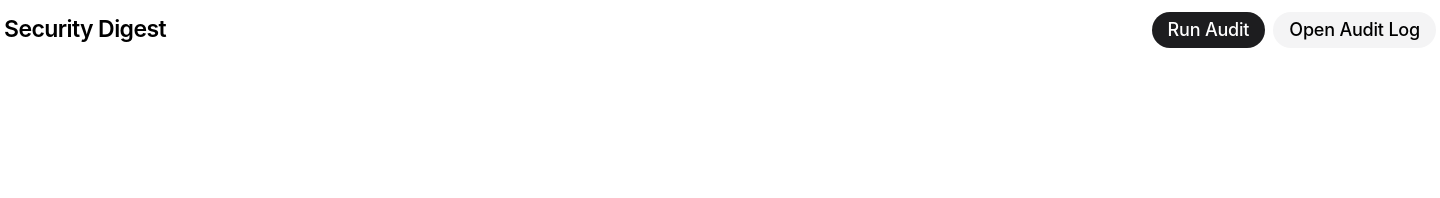
Test: keeps audit buttons together without a placeholder digest container
The width and height of the screenshot is (1440, 198).
Click the button "Run Audit".
click(1208, 30)  # box [1152,12,1265,48]
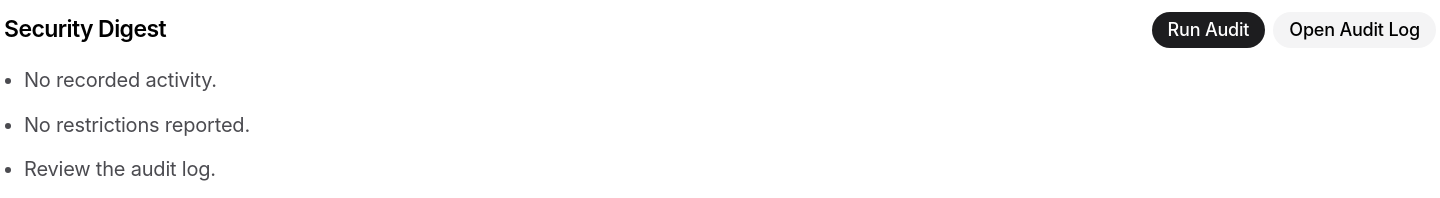
Now the list item "No recorded activity." is shown, box [24,68,217,92]
